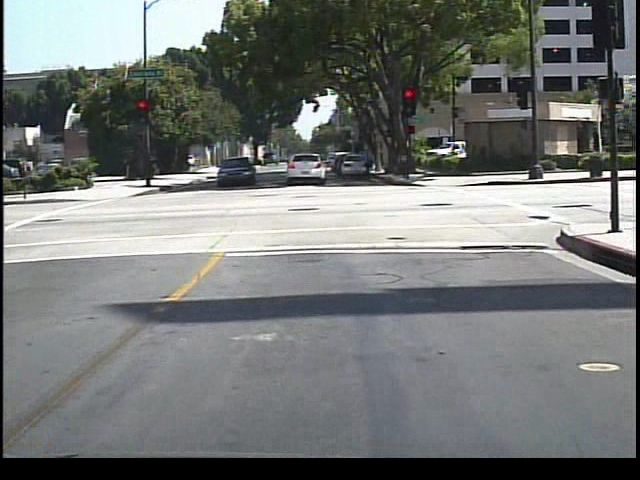person: (358, 144, 379, 185)
